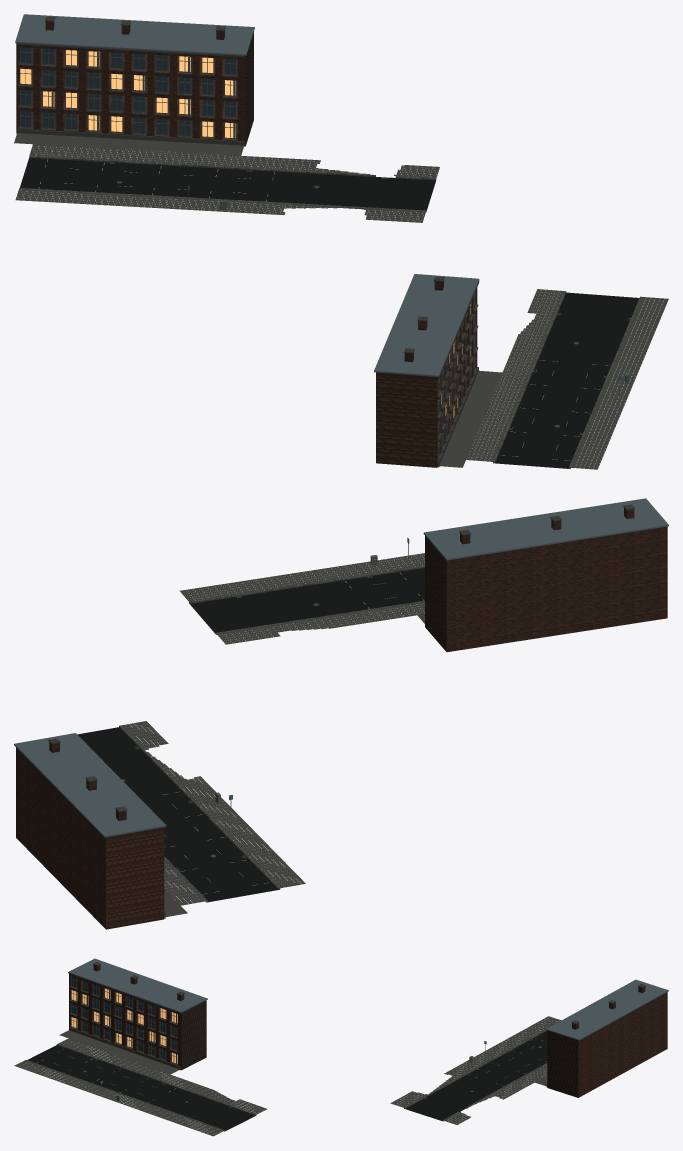
File: streets.glb
3 renders of one model, top to bottom at view 1: azimuth 30°, elevation 25°; view 2: azimuth 150°, elevation 25°; view 3: azimuth 270°, elevation 25°, orthographic. The views are drawn at different scales.
Parts seen in each view (by area): view 1: Street_Corridors_Street_Asphalt, Street_Corridors_Street_Sidewalk, Building_North_StreetContinuation_Street_BrickFacade, Building_West_StreetContinuation_Street_BrickFacade, Building_North_StreetContinuation_Street_Roof, Building_West_StreetContinuation_Street_Roof, Building_North_StreetContinuation_Street_WindowDark, Building_North_StreetContinuation_Street_Iron, Building_North_StreetContinuation_Street_StoneTrim, Building_North_StreetContinuation_Street_WindowWarm, Building_West_StreetContinuation_Street_Iron, Street_Corridors_Street_CurbGranite (+2 smaller); view 2: Building_West_StreetContinuation_Street_BrickFacade, Street_Corridors_Street_Asphalt, Building_North_StreetContinuation_Street_BrickFacade, Street_Corridors_Street_Sidewalk, Building_West_StreetContinuation_Street_Roof, Building_North_StreetContinuation_Street_Roof, Street_Corridors_Street_CurbGranite, Street_Corridors_Street_CurbDark; view 3: Street_Corridors_Street_Asphalt, Street_Corridors_Street_Sidewalk, Building_North_StreetContinuation_Street_BrickFacade, Building_West_StreetContinuation_Street_BrickFacade, Building_West_StreetContinuation_Street_Roof, Building_North_StreetContinuation_Street_Roof, Building_West_StreetContinuation_Street_Iron, Building_West_StreetContinuation_Street_WindowDark, Building_West_StreetContinuation_Street_StoneTrim, Building_West_StreetContinuation_Street_WindowWarm, Street_Corridors_Street_CurbGranite, Street_Corridors_Street_CurbDark.
Part boxes in pixels (box(x1,y1,x2,y2)): Street_Corridors_Street_Asphalt: box(20, 158, 639, 468); Street_Corridors_Street_Sidewalk: box(14, 133, 668, 469); Building_North_StreetContinuation_Street_BrickFacade: box(16, 21, 253, 146); Building_West_StreetContinuation_Street_BrickFacade: box(376, 280, 477, 467); Building_North_StreetContinuation_Street_Roof: box(15, 14, 254, 55); Building_West_StreetContinuation_Street_Roof: box(374, 274, 479, 376); Building_North_StreetContinuation_Street_WindowDark: box(20, 47, 235, 135); Building_North_StreetContinuation_Street_Iron: box(19, 47, 236, 139); Building_North_StreetContinuation_Street_StoneTrim: box(17, 16, 244, 146); Building_North_StreetContinuation_Street_WindowWarm: box(20, 50, 235, 137); Building_West_StreetContinuation_Street_Iron: box(437, 291, 475, 459); Street_Corridors_Street_CurbGranite: box(20, 155, 640, 468); Building_West_StreetContinuation_Street_BrickFacade: box(425, 508, 667, 652); Street_Corridors_Street_Asphalt: box(77, 568, 424, 902); Building_North_StreetContinuation_Street_BrickFacade: box(16, 742, 164, 929); Street_Corridors_Street_Sidewalk: box(121, 553, 424, 916); Building_West_StreetContinuation_Street_Roof: box(423, 498, 668, 560); Building_North_StreetContinuation_Street_Roof: box(14, 733, 166, 837); Street_Corridors_Street_CurbGranite: box(119, 565, 424, 902); Street_Corridors_Street_CurbDark: box(122, 565, 424, 898); Street_Corridors_Street_Asphalt: box(27, 1031, 547, 1130); Street_Corridors_Street_Sidewalk: box(14, 1016, 561, 1136); Building_North_StreetContinuation_Street_BrickFacade: box(547, 986, 667, 1097); Building_West_StreetContinuation_Street_BrickFacade: box(69, 964, 206, 1070); Building_West_StreetContinuation_Street_Roof: box(68, 958, 207, 1012); Building_North_StreetContinuation_Street_Roof: box(546, 979, 668, 1040); Building_West_StreetContinuation_Street_Iron: box(70, 976, 177, 1064); Building_West_StreetContinuation_Street_WindowDark: box(71, 976, 177, 1059); Building_West_StreetContinuation_Street_StoneTrim: box(68, 962, 184, 1070); Building_West_StreetContinuation_Street_WindowWarm: box(71, 988, 177, 1063); Street_Corridors_Street_CurbGranite: box(25, 1030, 547, 1129); Street_Corridors_Street_CurbDark: box(34, 1031, 544, 1131).
Size of the model in its own units: 47.05 by 11.87 by 108.
Materials: 13 (6 with a texture image).
